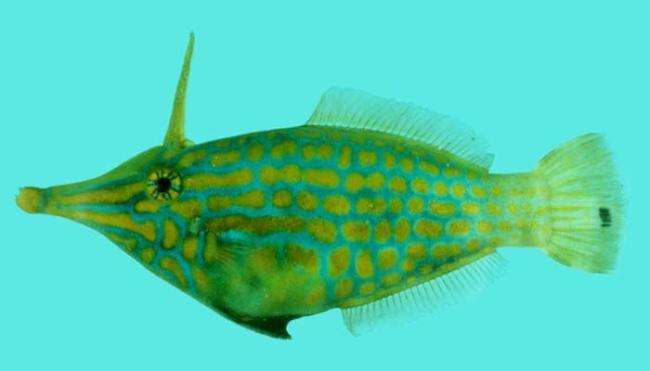fish: (15, 32, 628, 339)
